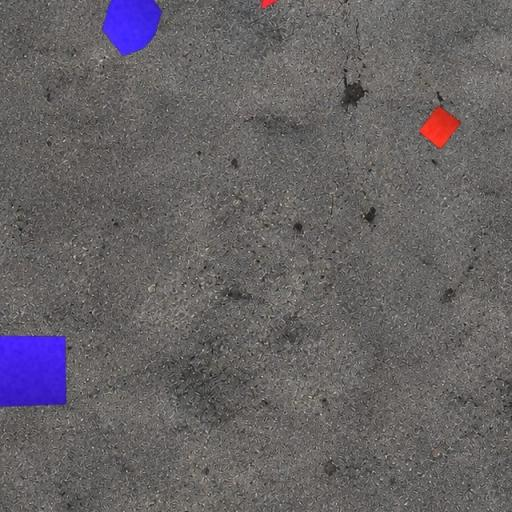BLUE_SQUARE: (0, 335, 67, 408)
RED_SQUARE: (418, 105, 462, 150)
